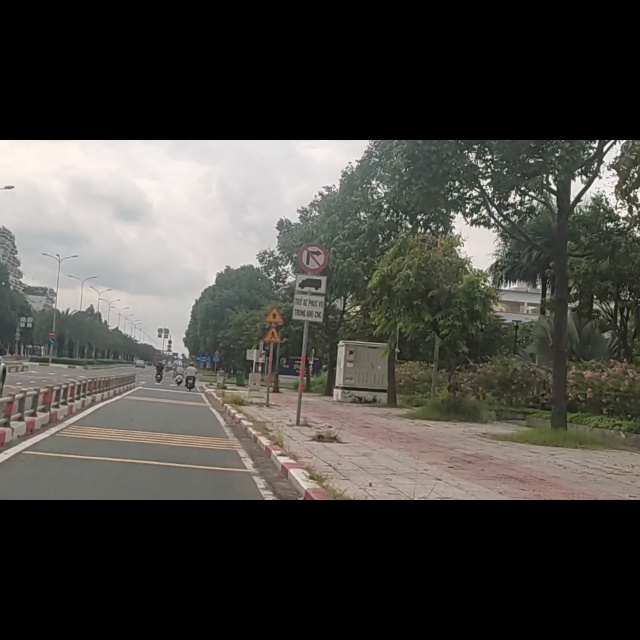bien_cam: (293, 238, 327, 324), (296, 179, 329, 236), (263, 295, 285, 325), (263, 332, 282, 361)
